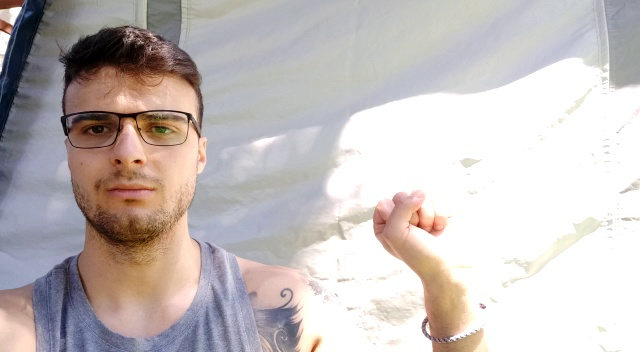Fist: (373, 189, 446, 262)
